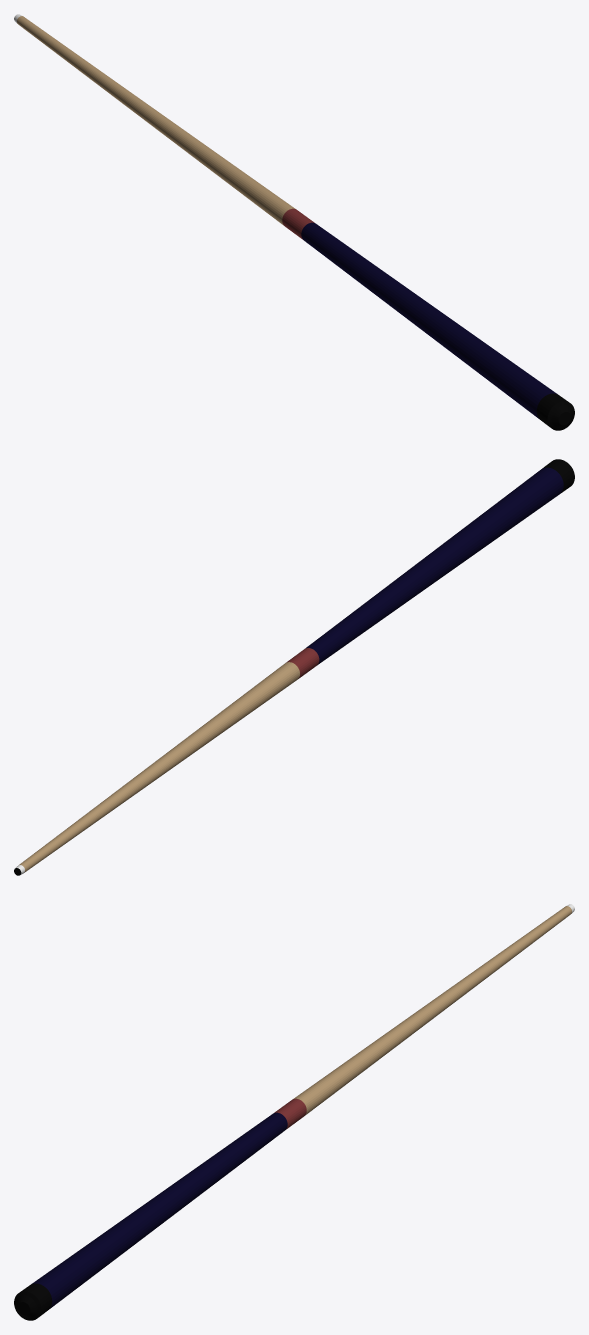
File: BilliardCue.fbx
3 views of the same model, one above another, from view 1: azimuth 30°, elevation 25°; view 2: azimuth 150°, elevation 25°; view 3: azimuth 330°, elevation 25° (orthographic).
Parts seen in each view (by area): view 1: Cylinder; view 2: Cylinder; view 3: Cylinder.
Part boxes in pixels (x1=…): Cylinder: x1=14, y1=14, x2=574, y2=430; Cylinder: x1=14, y1=459, x2=574, y2=875; Cylinder: x1=14, y1=904, x2=574, y2=1320.
Bounding box in the file's own units: 86.46 × 86.46 × 2991.
